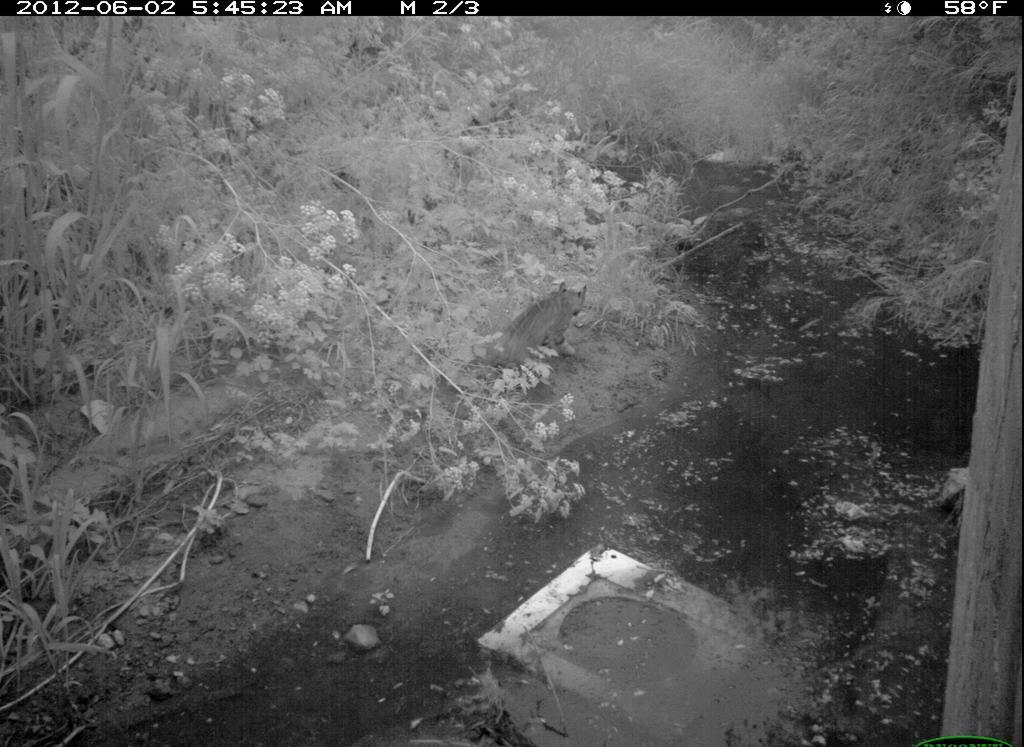bobcat: (479, 274, 594, 388)
